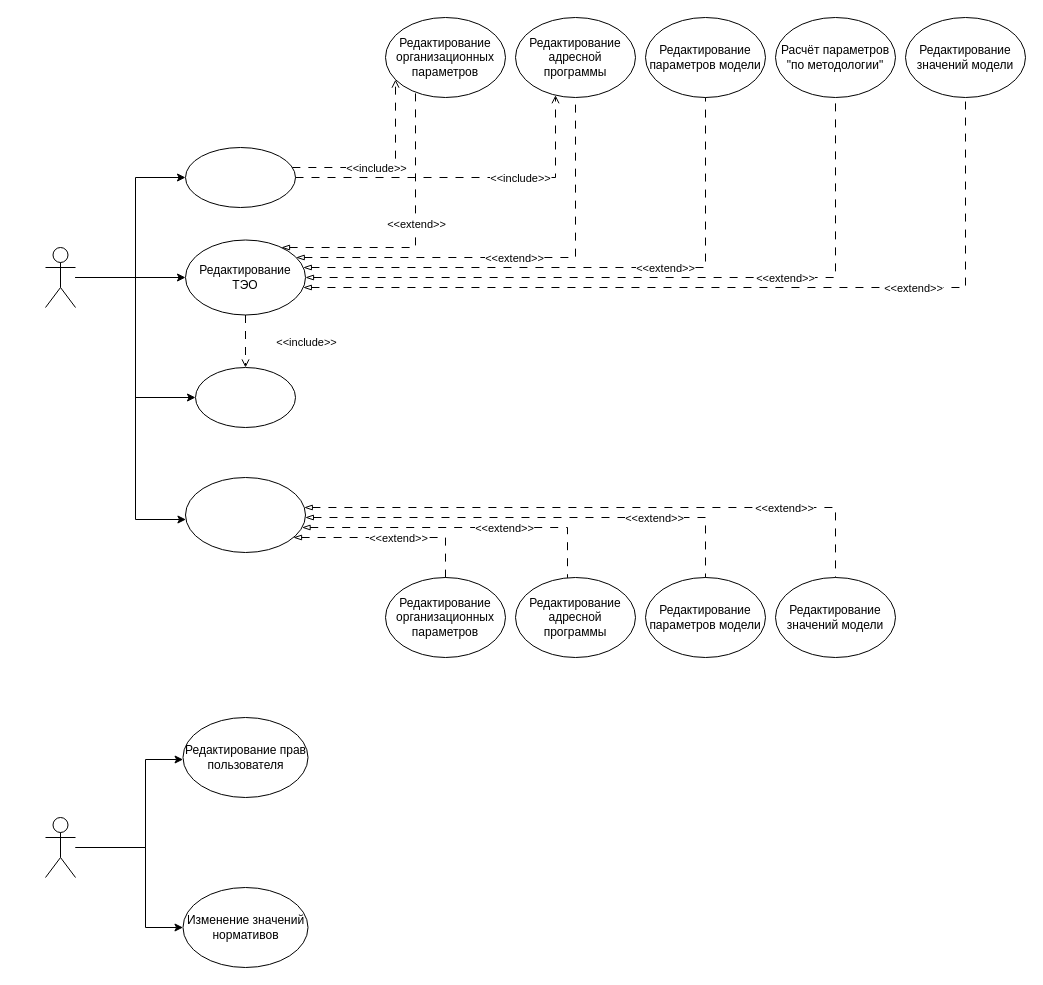
Some shapes in this 1043 by 985 pixel diagram are drawn without their labels. The box of each missing label's shape, as (x1, y1, x2, y2) in pixels:
Администратор: (44, 816, 76, 878)
Пользователь: (44, 246, 76, 308)
Просмотр ТЭО: (184, 476, 306, 552)
Расчет ТЭО: (194, 366, 296, 428)
Создание ТЭО: (184, 146, 296, 208)
